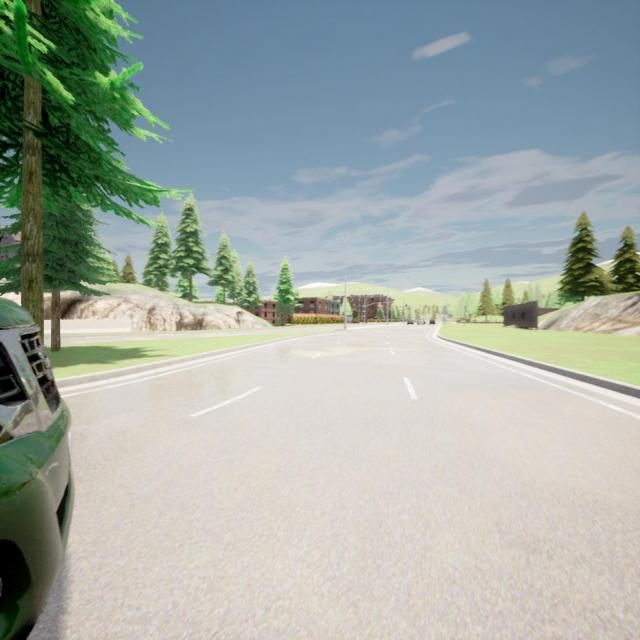Vehicle: (0, 298, 74, 638), (417, 318, 425, 325), (406, 319, 414, 324), (429, 318, 435, 324)
